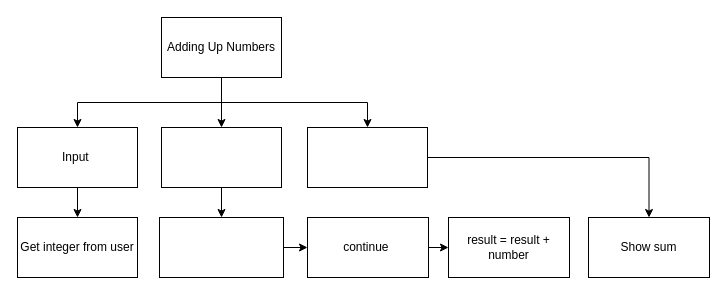
The diagram is 727 pixels wide and 295 high, and some of its shapes have lost their labels. Each missing label, with the centre of its shape:
"if number < 0" belongs at (x=221, y=247).
"Output" belongs at (x=367, y=157).
"Process" belongs at (x=221, y=157).
